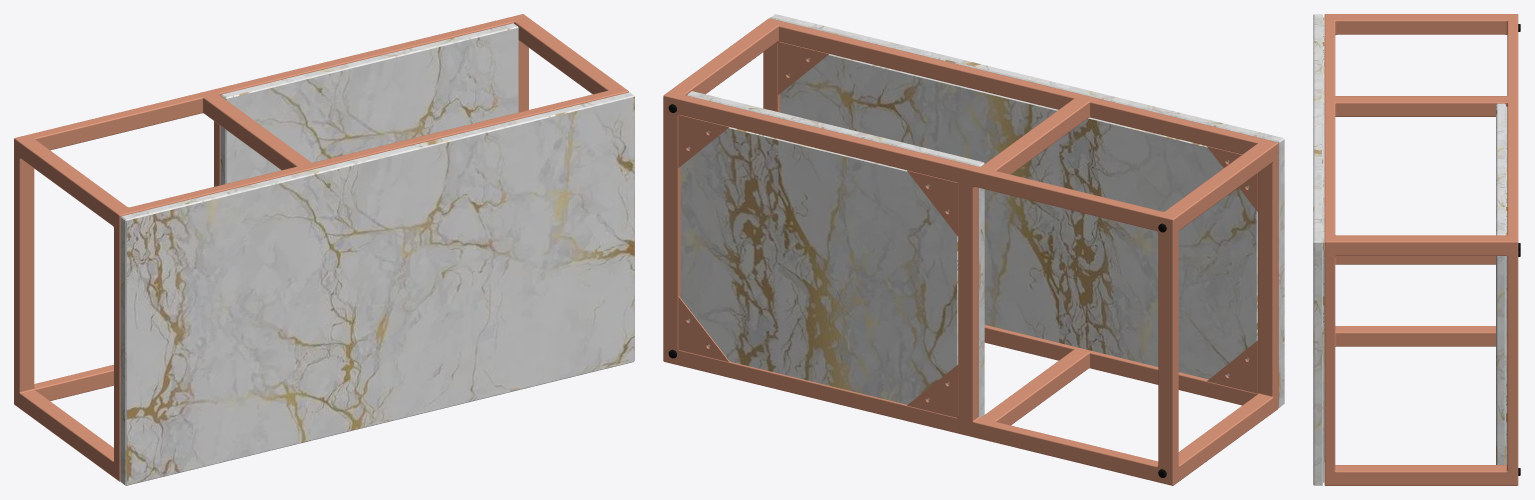
Rendered from rectangular_side_coffee_table.glb.
3 renders of one model, left to right at view 1: azimuth 30°, elevation 25°; view 2: azimuth 150°, elevation 25°; view 3: azimuth 270°, elevation 25°, orthographic. The views are drawn at different scales.
Parts seen in each view (by area): view 1: Object_4, Object_2; view 2: Object_3, Object_2, Object_4; view 3: Object_2, Object_4, Object_3.
Part boxes in pixels (box(x1,y1,x2,y2)): Object_4: box(120, 23, 634, 485); Object_2: box(14, 14, 628, 481); Object_3: box(680, 54, 1257, 404); Object_2: box(663, 18, 1278, 485); Object_4: box(687, 14, 1284, 417); Object_2: box(1324, 14, 1518, 485); Object_4: box(1313, 14, 1505, 485); Object_3: box(1323, 17, 1507, 482).
Size of the model in its own units: 1000 by 500 by 385.
Materials: 4 (2 with a texture image).
